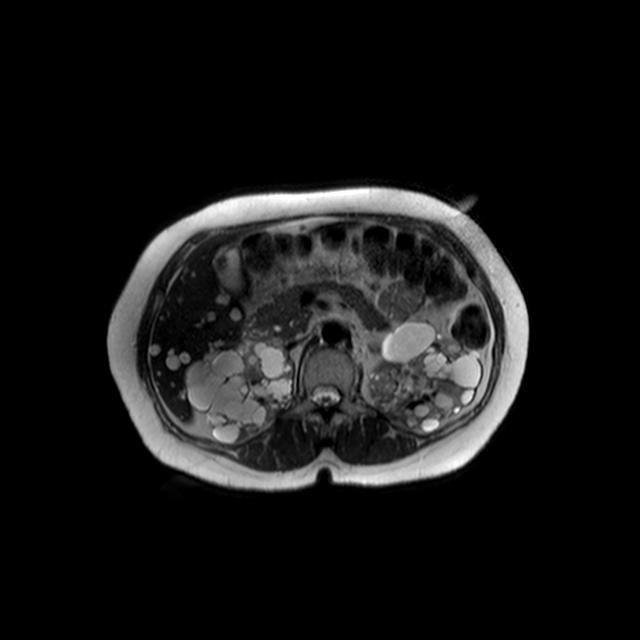sag: (182, 338, 296, 444)
sol: (368, 318, 487, 431)
